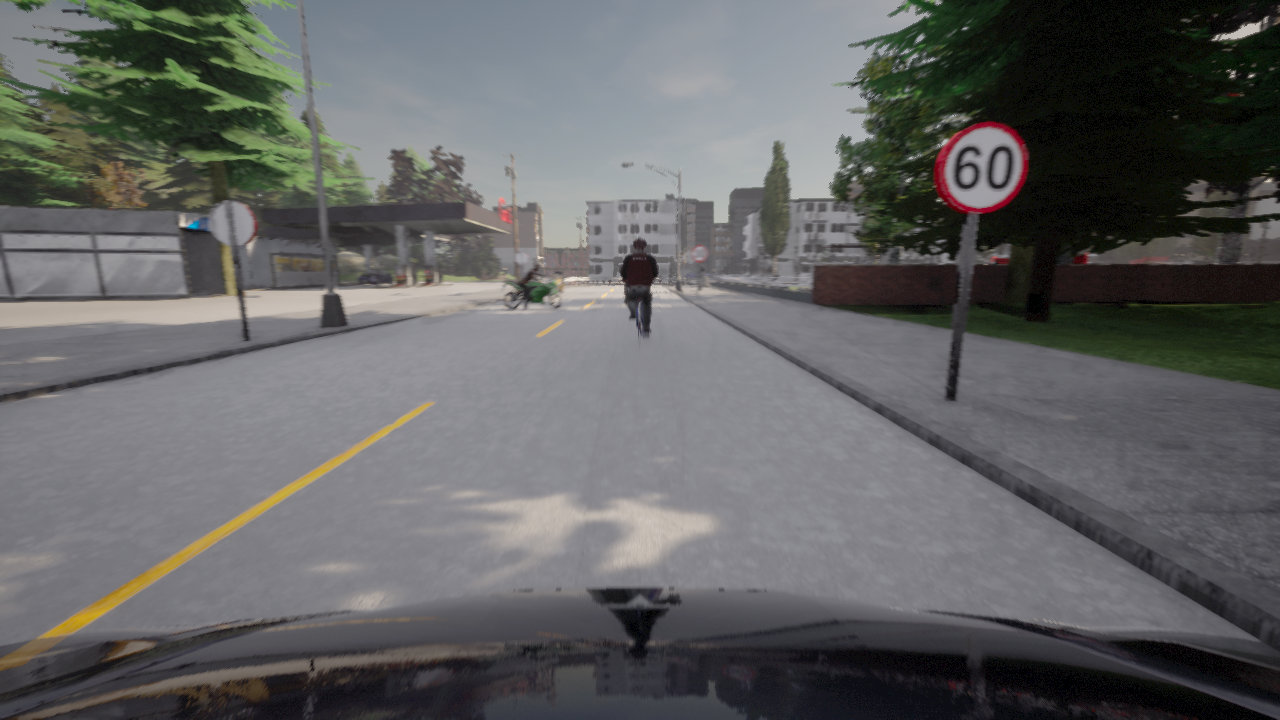cyclist: (0, 588, 1279, 719), (502, 275, 561, 309), (636, 299, 648, 348), (358, 269, 393, 285), (622, 280, 642, 306), (550, 273, 565, 294), (705, 272, 719, 276), (684, 271, 695, 276)
pedestrian: (696, 261, 704, 291)
